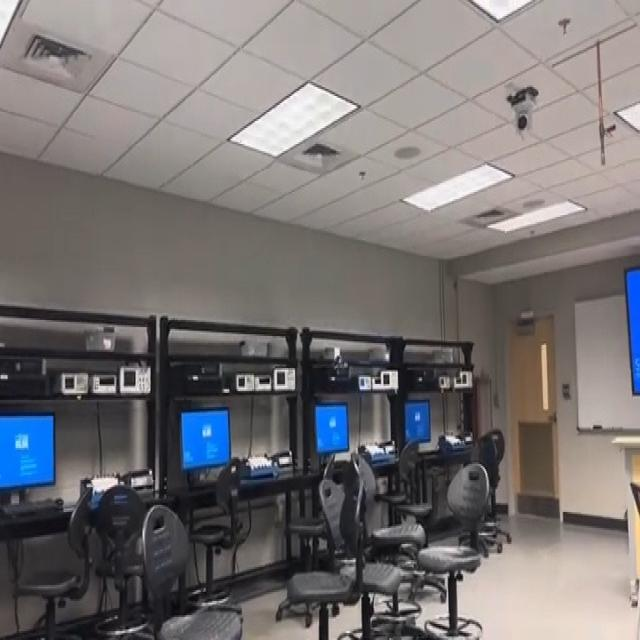drone: (321, 349, 354, 385)
